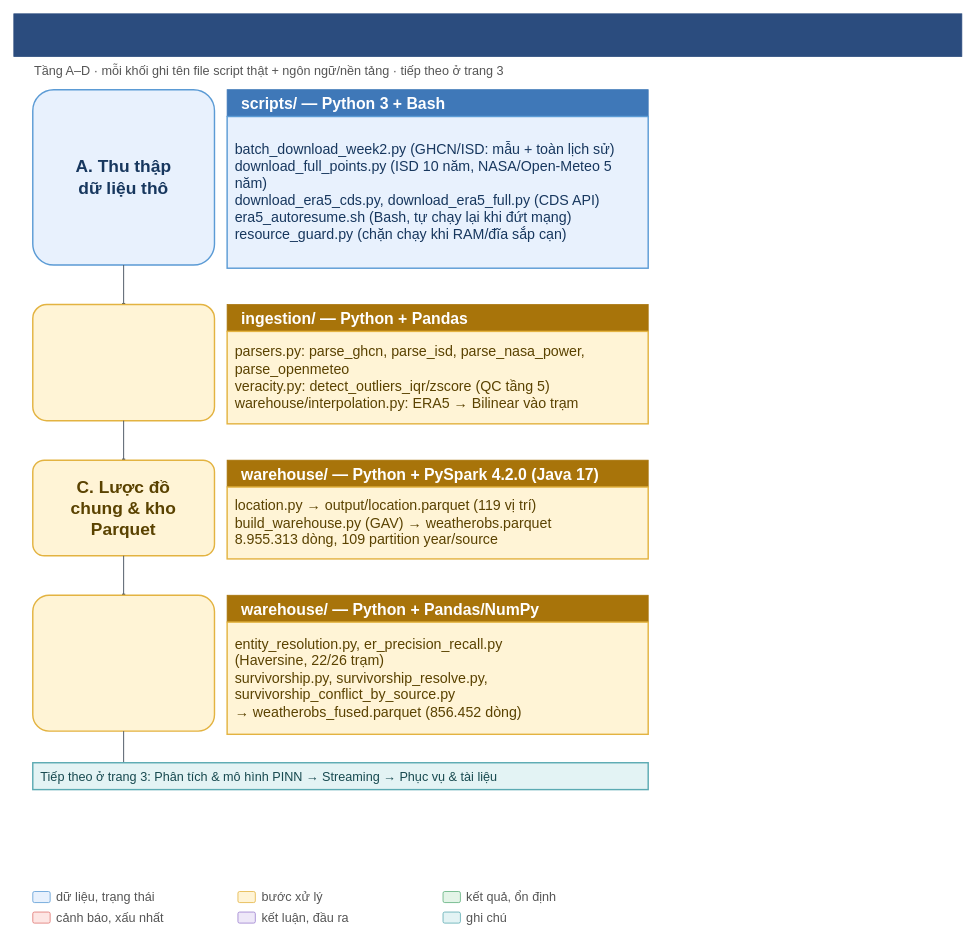
The diagram is 976 pixels wide and 942 high, and some of its shapes have lost their labels. The shapes that lost their labels are listed below. From the top down, each one's box as (x1, y1, x2, y2) in pixels, then its label:
(13, 13, 962, 56): Chi tiết mã nguồn (1/2): Thu thập → Tích hợp — Nhóm 16, IT5427
(32, 303, 215, 421): B. Chuẩn hoá & kiểm tra chất lượng
(32, 594, 215, 731): D. Tích hợp: Entity Resolution + Survivorship
